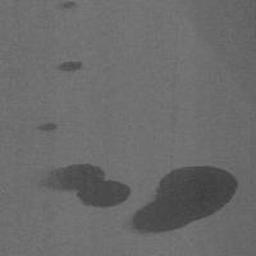Oil spot: (123, 164, 241, 237), (33, 161, 132, 210), (55, 59, 88, 73), (54, 0, 78, 12), (36, 120, 58, 133)
